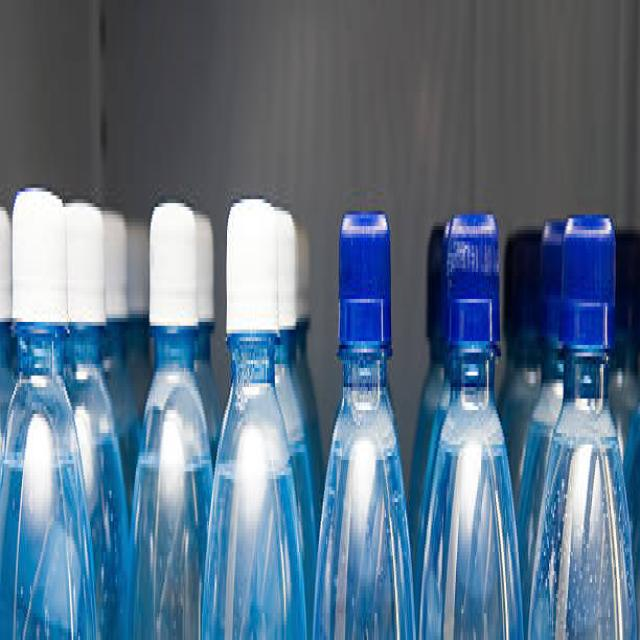blue_bottle: (309, 185, 419, 632), (418, 202, 526, 627), (530, 207, 637, 623)
